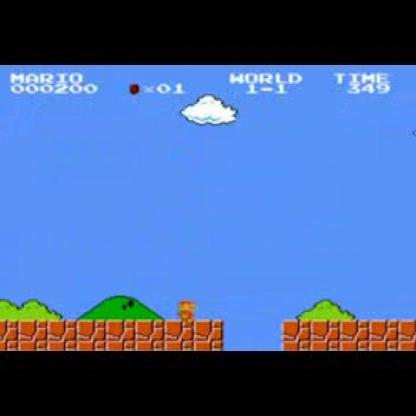Hoyo: (217, 318, 286, 350)
